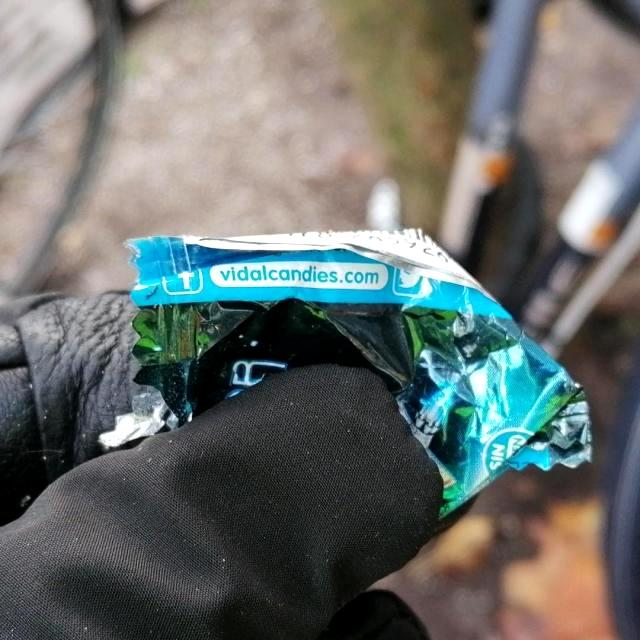Plastic: (93, 223, 595, 523)
